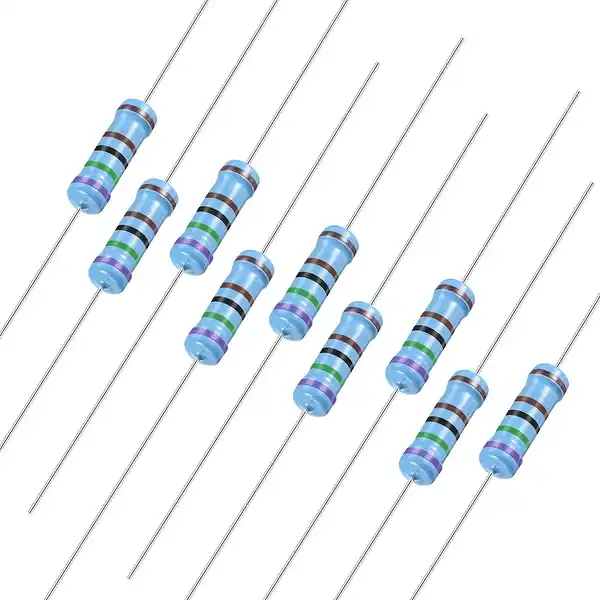resistor: (55, 82, 171, 227), (76, 161, 192, 306), (157, 143, 273, 288), (172, 233, 288, 378), (254, 211, 370, 356), (281, 287, 397, 432), (370, 265, 486, 410), (385, 353, 501, 498), (467, 349, 583, 494)
